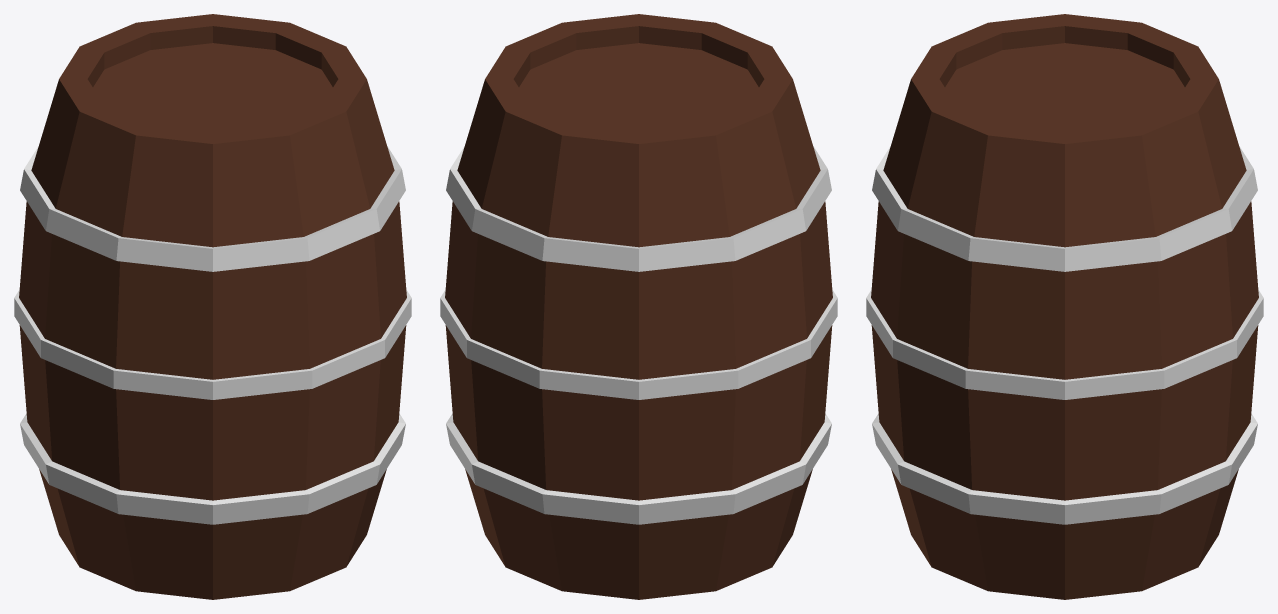
The model's file is Barell2.fbx.
The picture shows the model from 3 angles, left to right: view 1: azimuth 30°, elevation 25°; view 2: azimuth 150°, elevation 25°; view 3: azimuth 270°, elevation 25°; orthographic projection.
Parts seen in each view (by area): view 1: Barrel2; view 2: Barrel2; view 3: Barrel2.
Boxes of the visible parts, x1,y1,x2,y2 form: Barrel2: (14, 14, 411, 599); Barrel2: (440, 14, 837, 599); Barrel2: (866, 14, 1263, 599).
Bounding box in the file's own units: 81.31 × 103 × 81.31.
